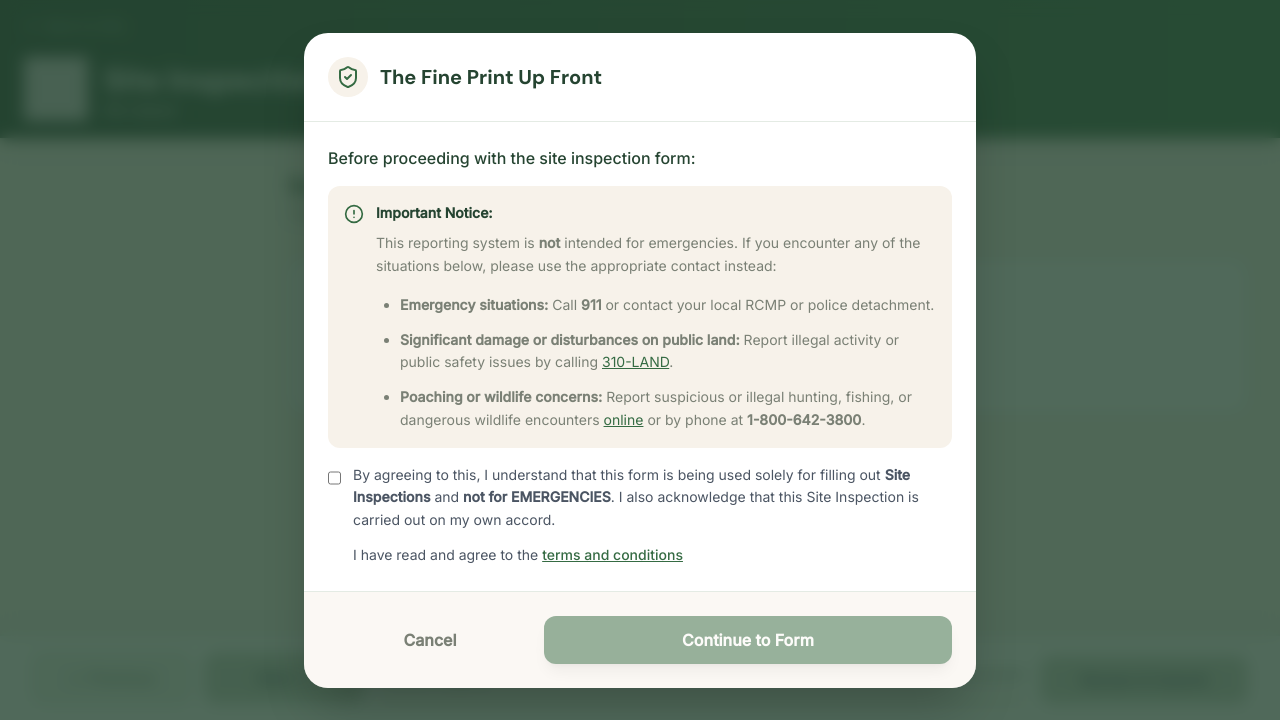
Scenario: NewReportPage – Liability / Verification Popup › Happy path – full liability check completion › dismisses the popup when 'Continue to Form' is clicked
What coordinates should you click on to do the following:
click the checkbox
I would click on:
 (334, 478)
Its box is [328, 468, 341, 488].
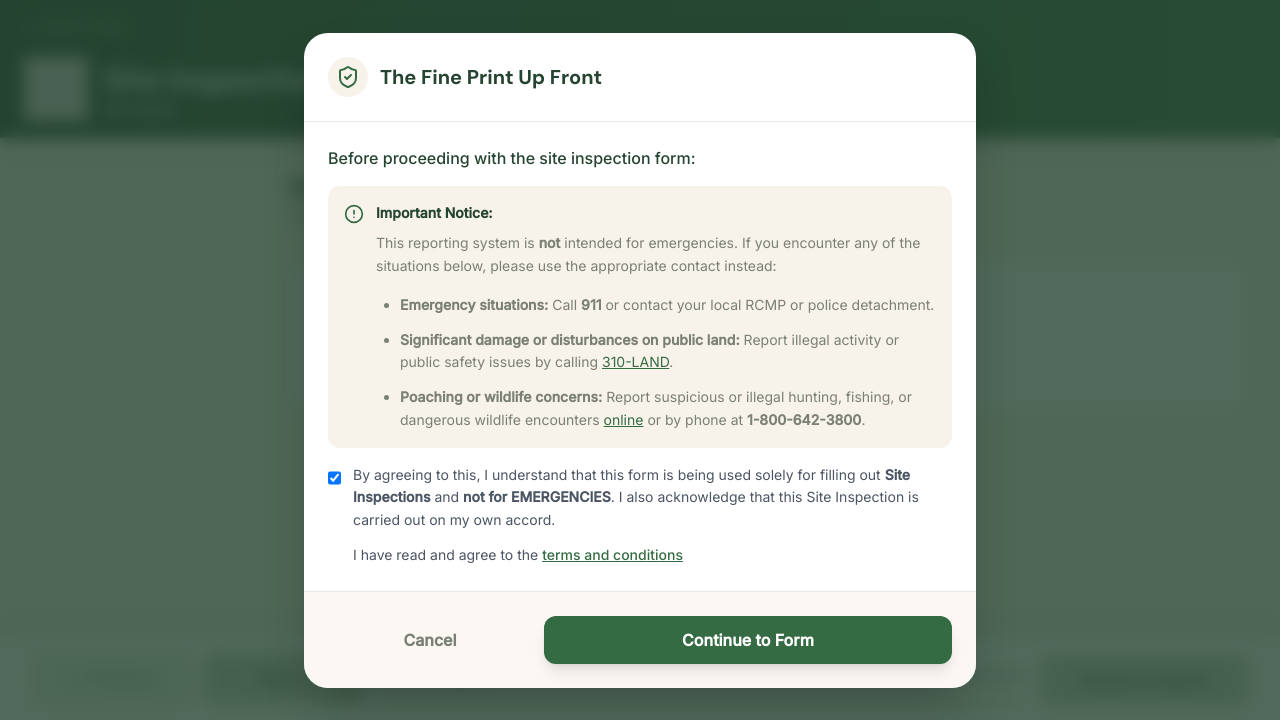
What coordinates should you click on to do the following:
click the button "Continue to Form"
I would click on:
 (748, 640)
Its box is [544, 616, 952, 664].
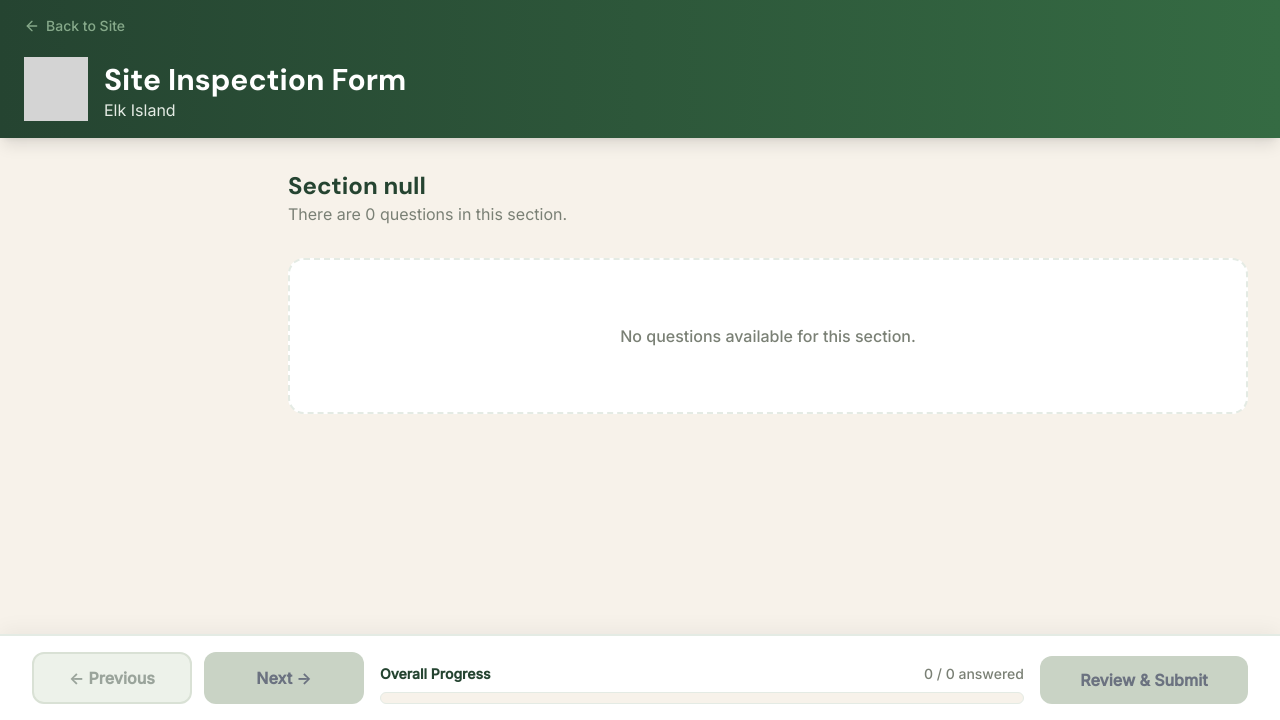
Result: the heading "The Fine Print Up Front" is gone
